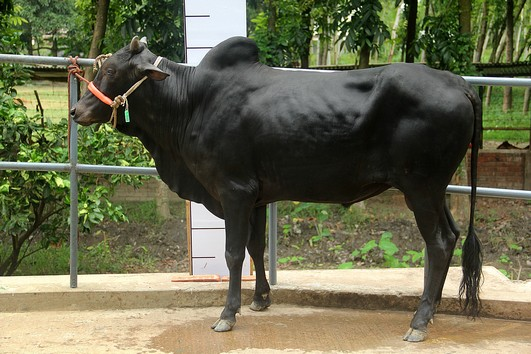cow: (65, 32, 488, 341)
